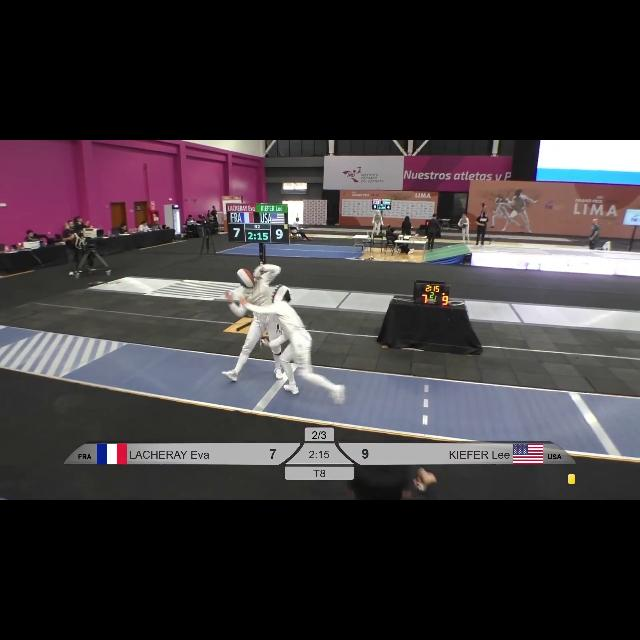blade: (245, 272, 269, 348)
